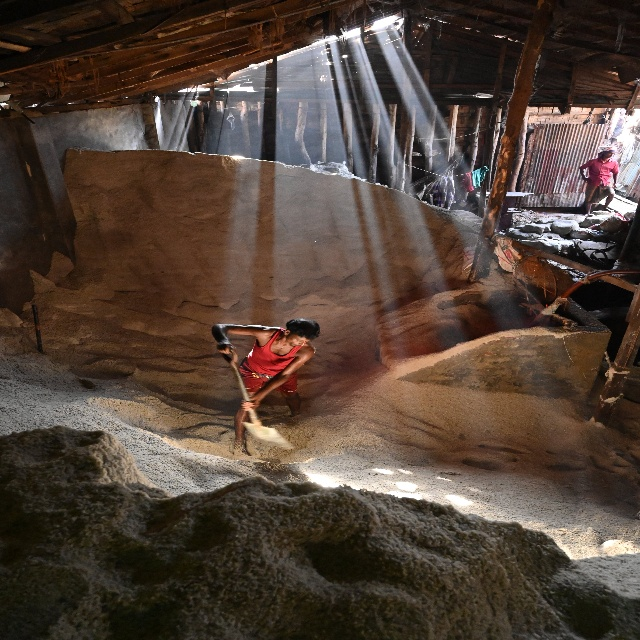Sin_guantes: (241, 393, 260, 411), (216, 339, 237, 355), (584, 177, 592, 185), (612, 183, 617, 189)
